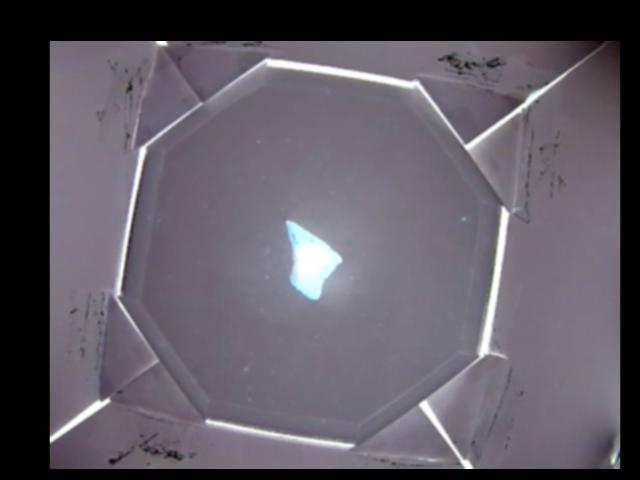Brisk: (283, 218, 342, 299)
